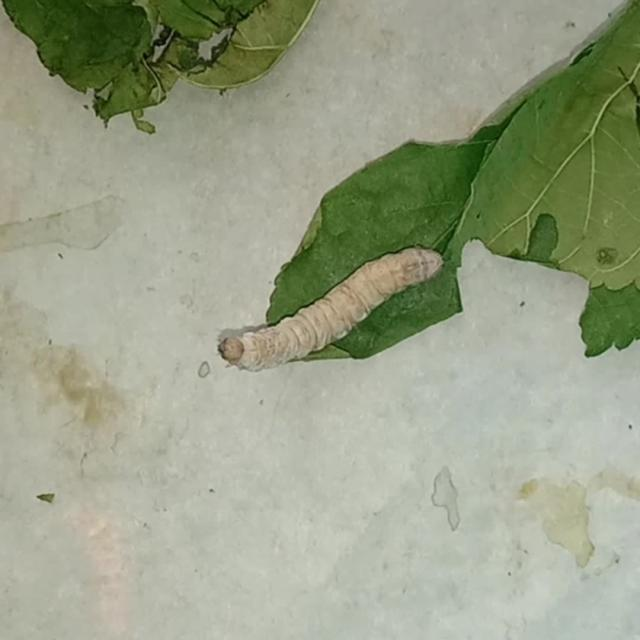Grasserie: (199, 220, 478, 400)
